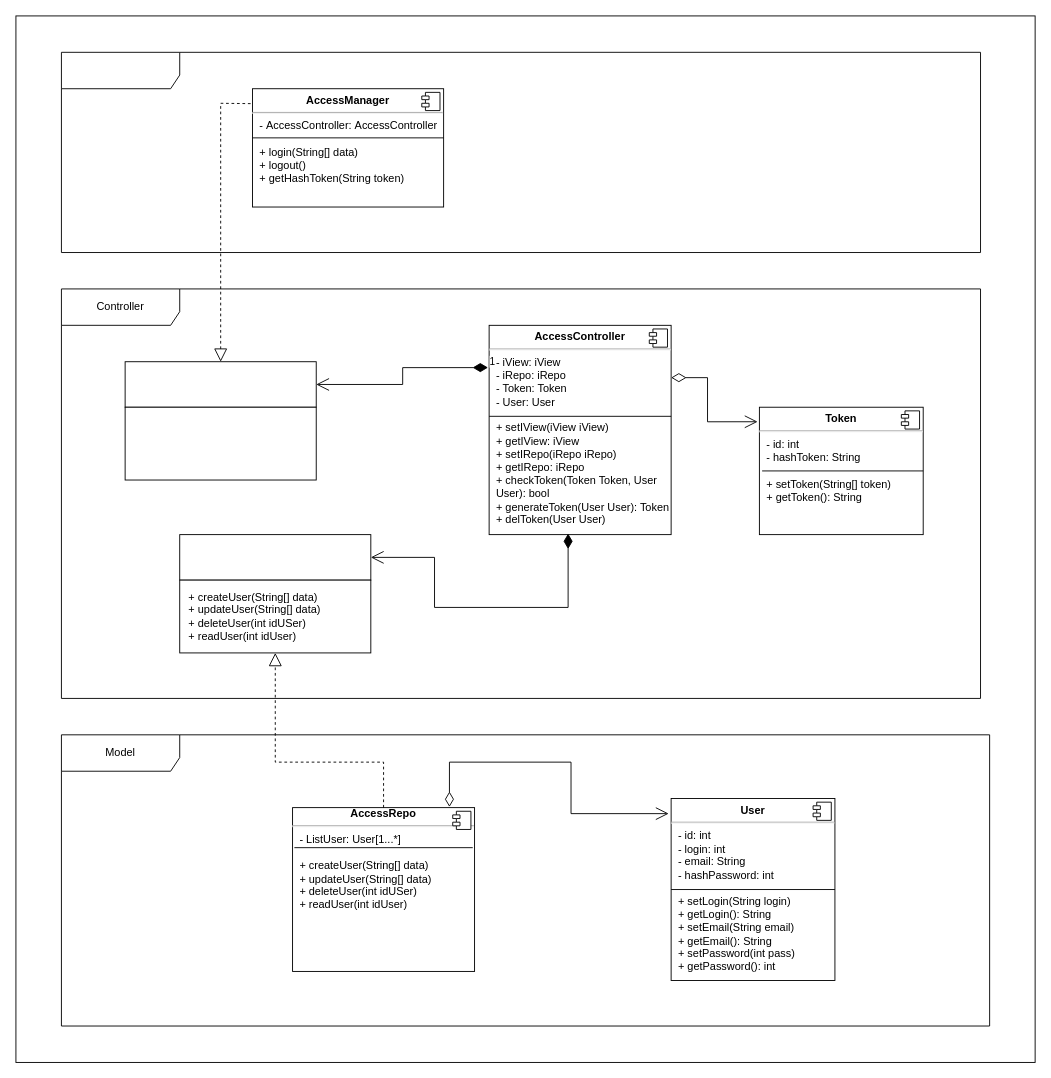
This 1051x1078 diagram has some shape labels left out. Each missing label, with the centre of its shape:
"+ login(String[] data) + logout() + getHashToken(String token)" belongs at point (220, 443).
"View" belongs at point (521, 152).
"«interface» iRepo" belongs at point (275, 557).
"«interface» iView" belongs at point (220, 384).
